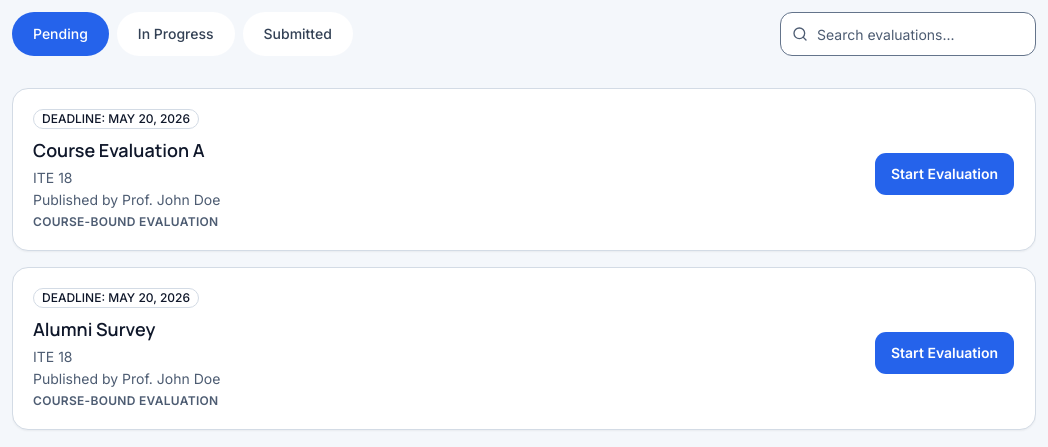
Test: EvaluationListBrowser › shows a no-match message when the search finds nothing
Type "zzz" into the search field labelled "Search evaluations" at point(908, 34), box [780,12,1036,56]
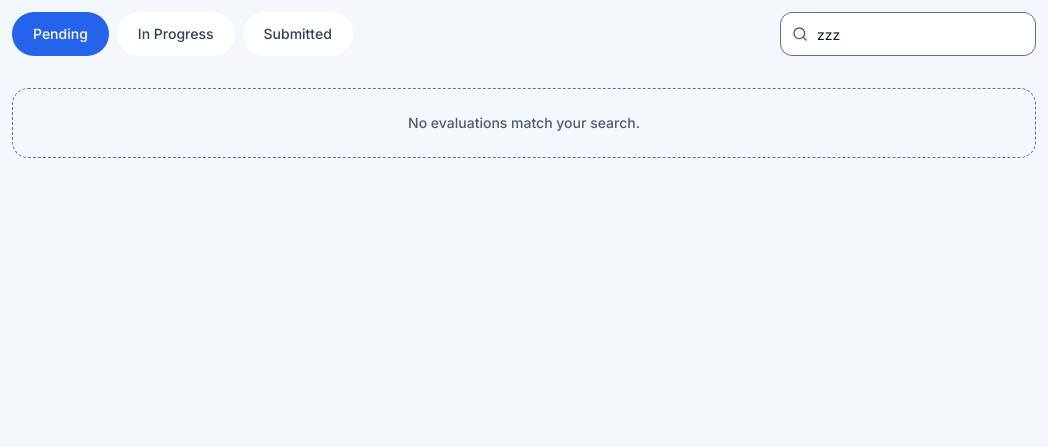
Result: the text "No evaluations match your search." is shown at [408,113,640,133]
